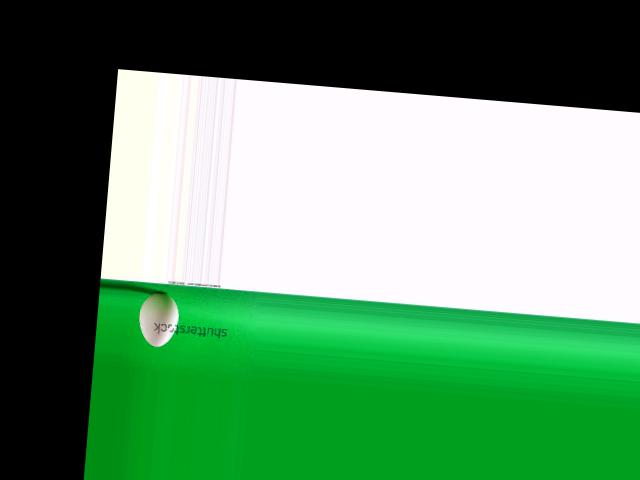egg: (136, 289, 180, 348)
